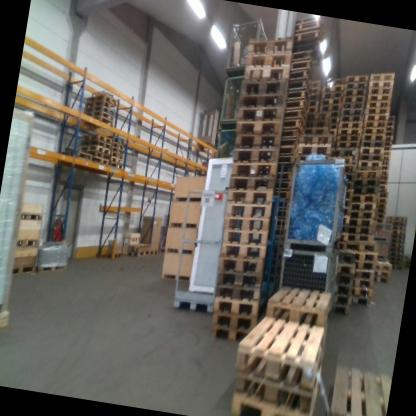pallet: (232, 309, 325, 391), (230, 352, 325, 412), (324, 359, 392, 416), (264, 277, 333, 323), (225, 391, 320, 416), (285, 26, 327, 68), (241, 75, 289, 104), (244, 61, 289, 90), (245, 32, 293, 59), (232, 158, 275, 188), (236, 102, 283, 129), (224, 225, 269, 252), (233, 115, 281, 140), (211, 323, 260, 347), (227, 199, 269, 227), (226, 172, 273, 197), (222, 212, 267, 238), (227, 186, 272, 212), (232, 145, 277, 171), (246, 50, 291, 76), (233, 131, 281, 155), (214, 282, 259, 307), (293, 139, 328, 171), (242, 91, 284, 117), (221, 240, 265, 263), (217, 269, 260, 292), (215, 298, 258, 320), (220, 255, 264, 276), (212, 312, 257, 332), (291, 20, 327, 42), (290, 46, 319, 72), (301, 130, 331, 153), (288, 75, 315, 100), (85, 112, 116, 133), (286, 64, 315, 86), (341, 247, 378, 264), (341, 237, 375, 255), (292, 12, 328, 29), (351, 165, 381, 185), (61, 146, 92, 165), (79, 130, 113, 147), (285, 87, 312, 107), (84, 102, 117, 118), (288, 59, 315, 78), (84, 90, 118, 105), (301, 124, 329, 142), (284, 96, 309, 116), (85, 97, 118, 112), (305, 108, 334, 125), (79, 143, 111, 158), (328, 144, 358, 160), (368, 68, 396, 85), (281, 113, 306, 131), (352, 182, 378, 199), (304, 119, 333, 134), (350, 189, 377, 205), (79, 138, 112, 151), (350, 197, 375, 214), (343, 77, 368, 94), (82, 109, 114, 122), (282, 106, 307, 122), (322, 75, 345, 92), (348, 205, 374, 220), (335, 123, 361, 138), (367, 83, 394, 97), (358, 137, 385, 151), (352, 260, 377, 275), (344, 71, 369, 86), (281, 125, 304, 141), (343, 84, 366, 100), (369, 75, 395, 89), (364, 97, 390, 111), (363, 110, 389, 124), (337, 249, 356, 268), (338, 116, 362, 131), (335, 261, 357, 277), (352, 176, 379, 189), (359, 130, 386, 143), (347, 217, 372, 231), (361, 124, 386, 138), (357, 149, 382, 163), (335, 130, 360, 144), (125, 246, 148, 261), (370, 257, 393, 272), (316, 113, 339, 128), (346, 232, 370, 246), (318, 108, 340, 123), (367, 92, 392, 105), (362, 117, 387, 130), (340, 111, 363, 125), (334, 274, 355, 289), (322, 88, 343, 103), (365, 104, 389, 117), (320, 94, 342, 108), (278, 134, 297, 150), (333, 278, 353, 293), (277, 149, 297, 164), (353, 268, 376, 281), (341, 99, 364, 112), (340, 105, 363, 118), (273, 176, 294, 190), (336, 137, 360, 149), (352, 278, 374, 291), (275, 144, 297, 157), (319, 99, 341, 112), (273, 170, 293, 184), (322, 82, 342, 96), (359, 143, 382, 155), (356, 159, 381, 170), (351, 287, 375, 298), (369, 268, 393, 279), (342, 94, 365, 105), (332, 303, 351, 316), (277, 160, 296, 173), (349, 296, 371, 307), (335, 291, 351, 305), (345, 226, 369, 235), (105, 161, 124, 172), (89, 156, 109, 166), (273, 206, 287, 220), (273, 188, 292, 198), (91, 150, 109, 160), (107, 150, 125, 160), (109, 135, 125, 146), (108, 155, 126, 164), (375, 276, 391, 286), (275, 199, 288, 211), (307, 78, 320, 90), (109, 146, 124, 155), (306, 86, 321, 95), (109, 140, 125, 148), (275, 219, 286, 230), (307, 99, 319, 108), (310, 94, 320, 102)
stillage: (277, 147, 356, 265), (167, 182, 233, 323), (268, 238, 347, 320), (223, 13, 272, 83), (218, 72, 246, 126), (211, 122, 238, 165), (370, 237, 392, 260), (373, 218, 394, 242)
